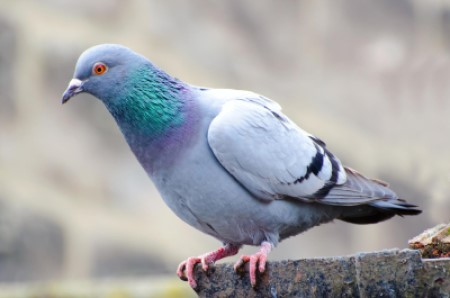pigeon: (59, 40, 424, 294)
